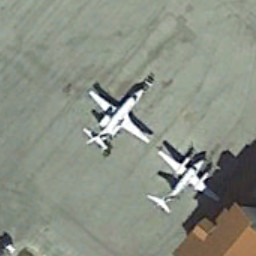Airplane: (51, 67, 157, 156), (142, 142, 227, 215)
